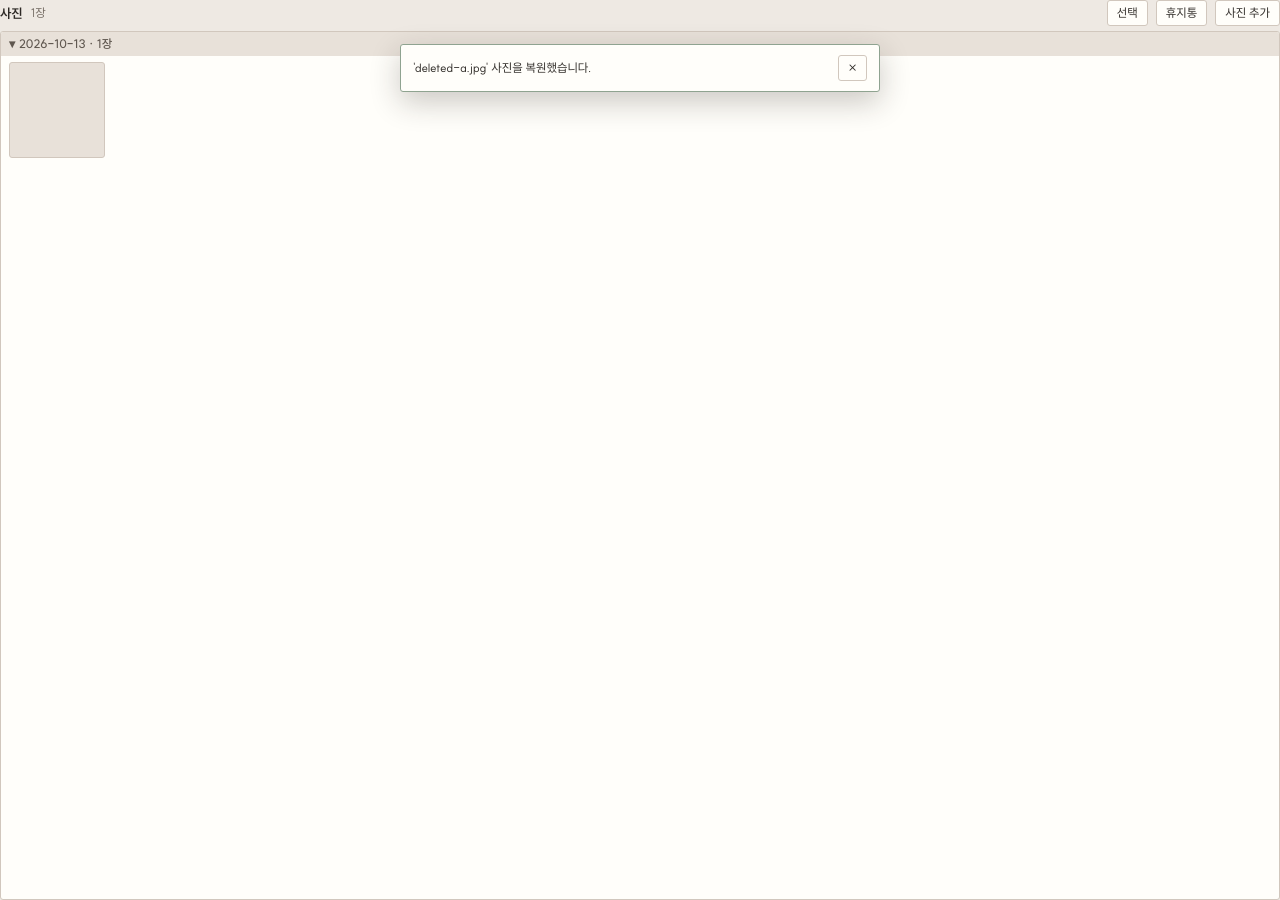
Test case: 고객 사진 휴지통 (CRM-15) › 복원 실패는 안내하고 항목은 그대로 둔다
The width and height of the screenshot is (1280, 900).
Click the button "휴지통" at (1182,13), box [1156, 0, 1207, 26]
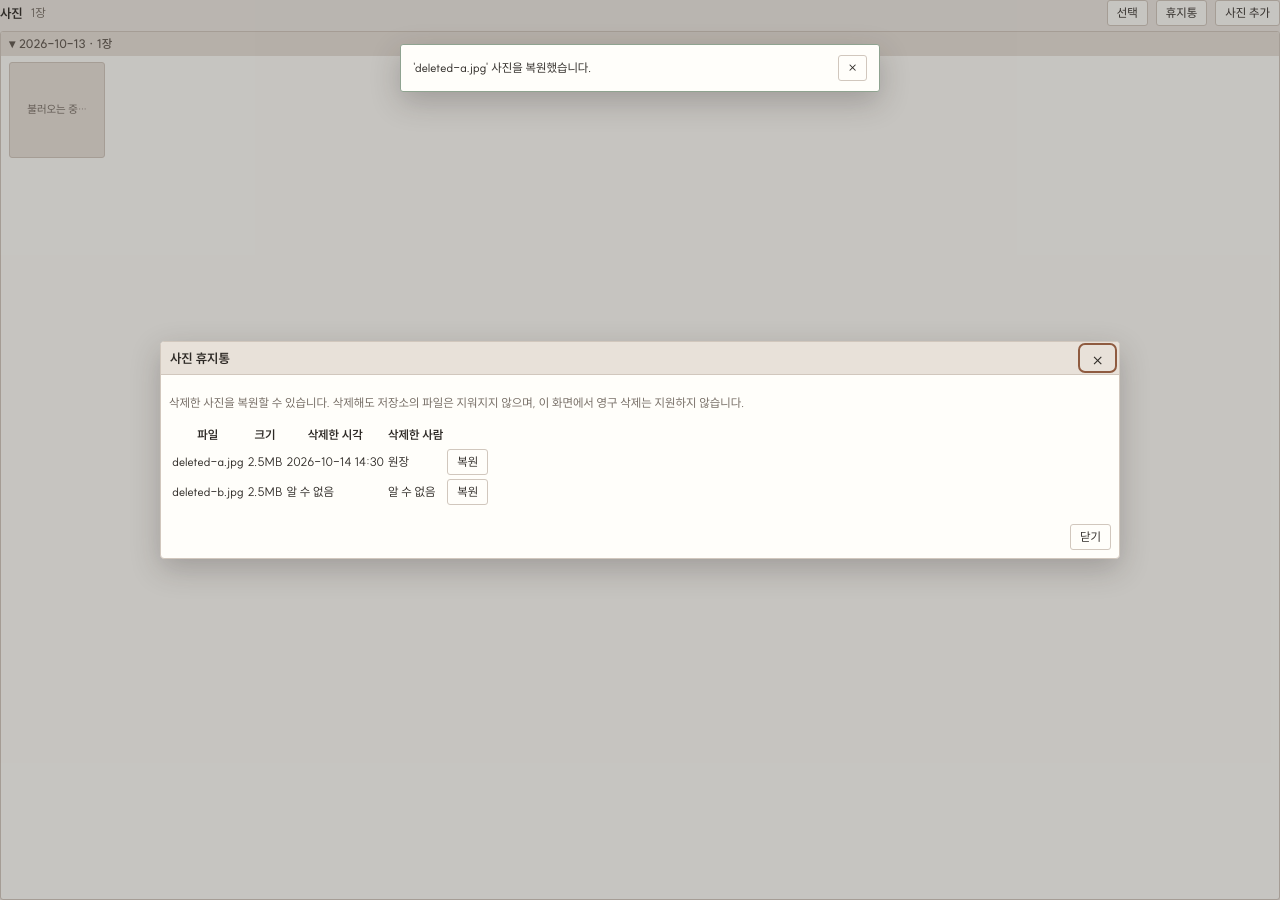
Click the button with aria-label "deleted-a.jpg 복원" at (468,462), box [447, 449, 488, 475]
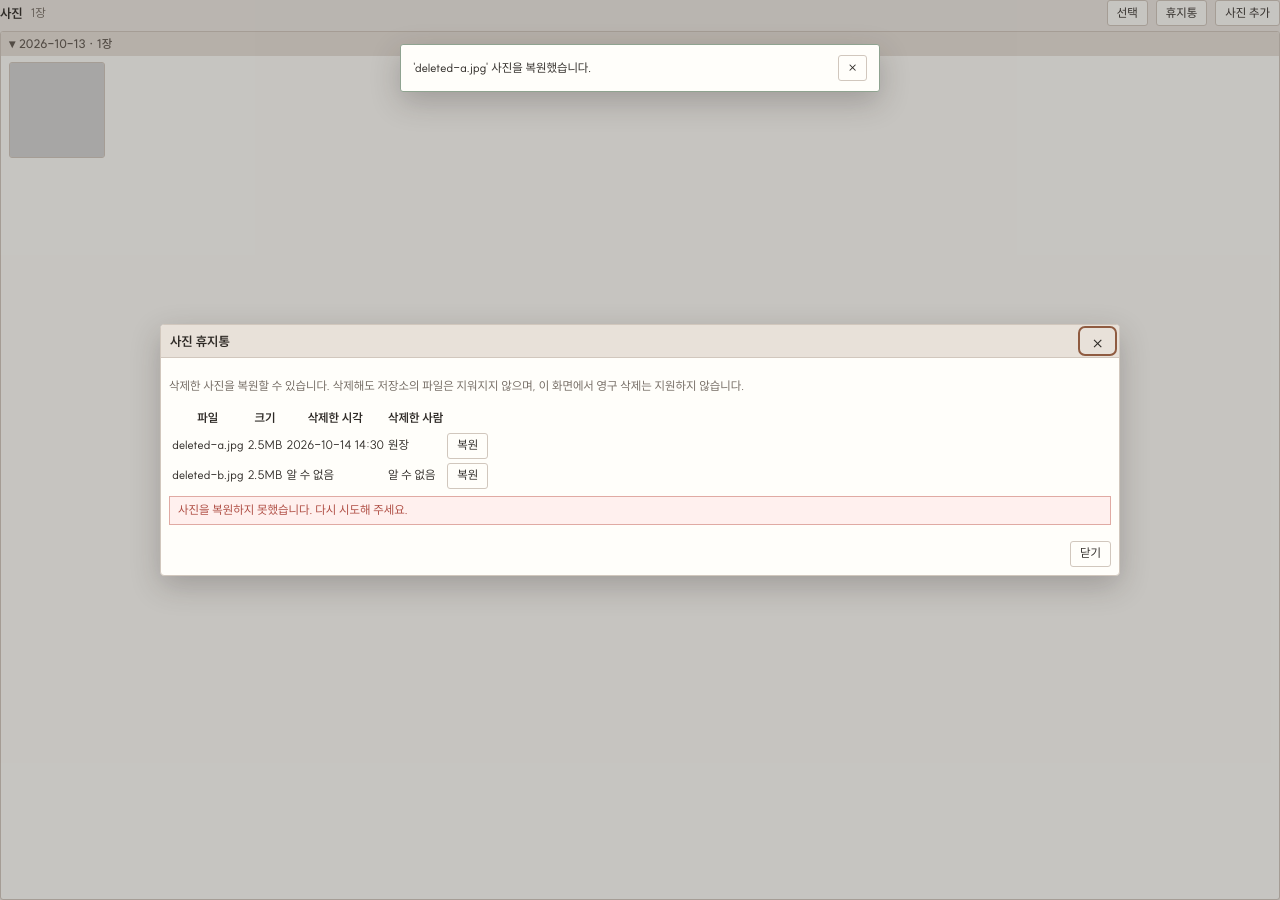
Expected: the button with aria-label "deleted-a.jpg 복원" is shown, [447, 433, 488, 459]
Expected: the message "사진을 복원하지 못했습니다. 다시 시도해 주세요." is shown, [169, 496, 1111, 525]
